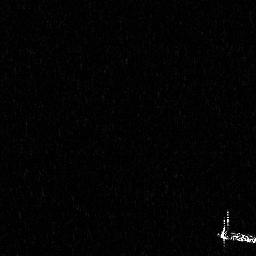ship: (215, 207, 256, 249)
